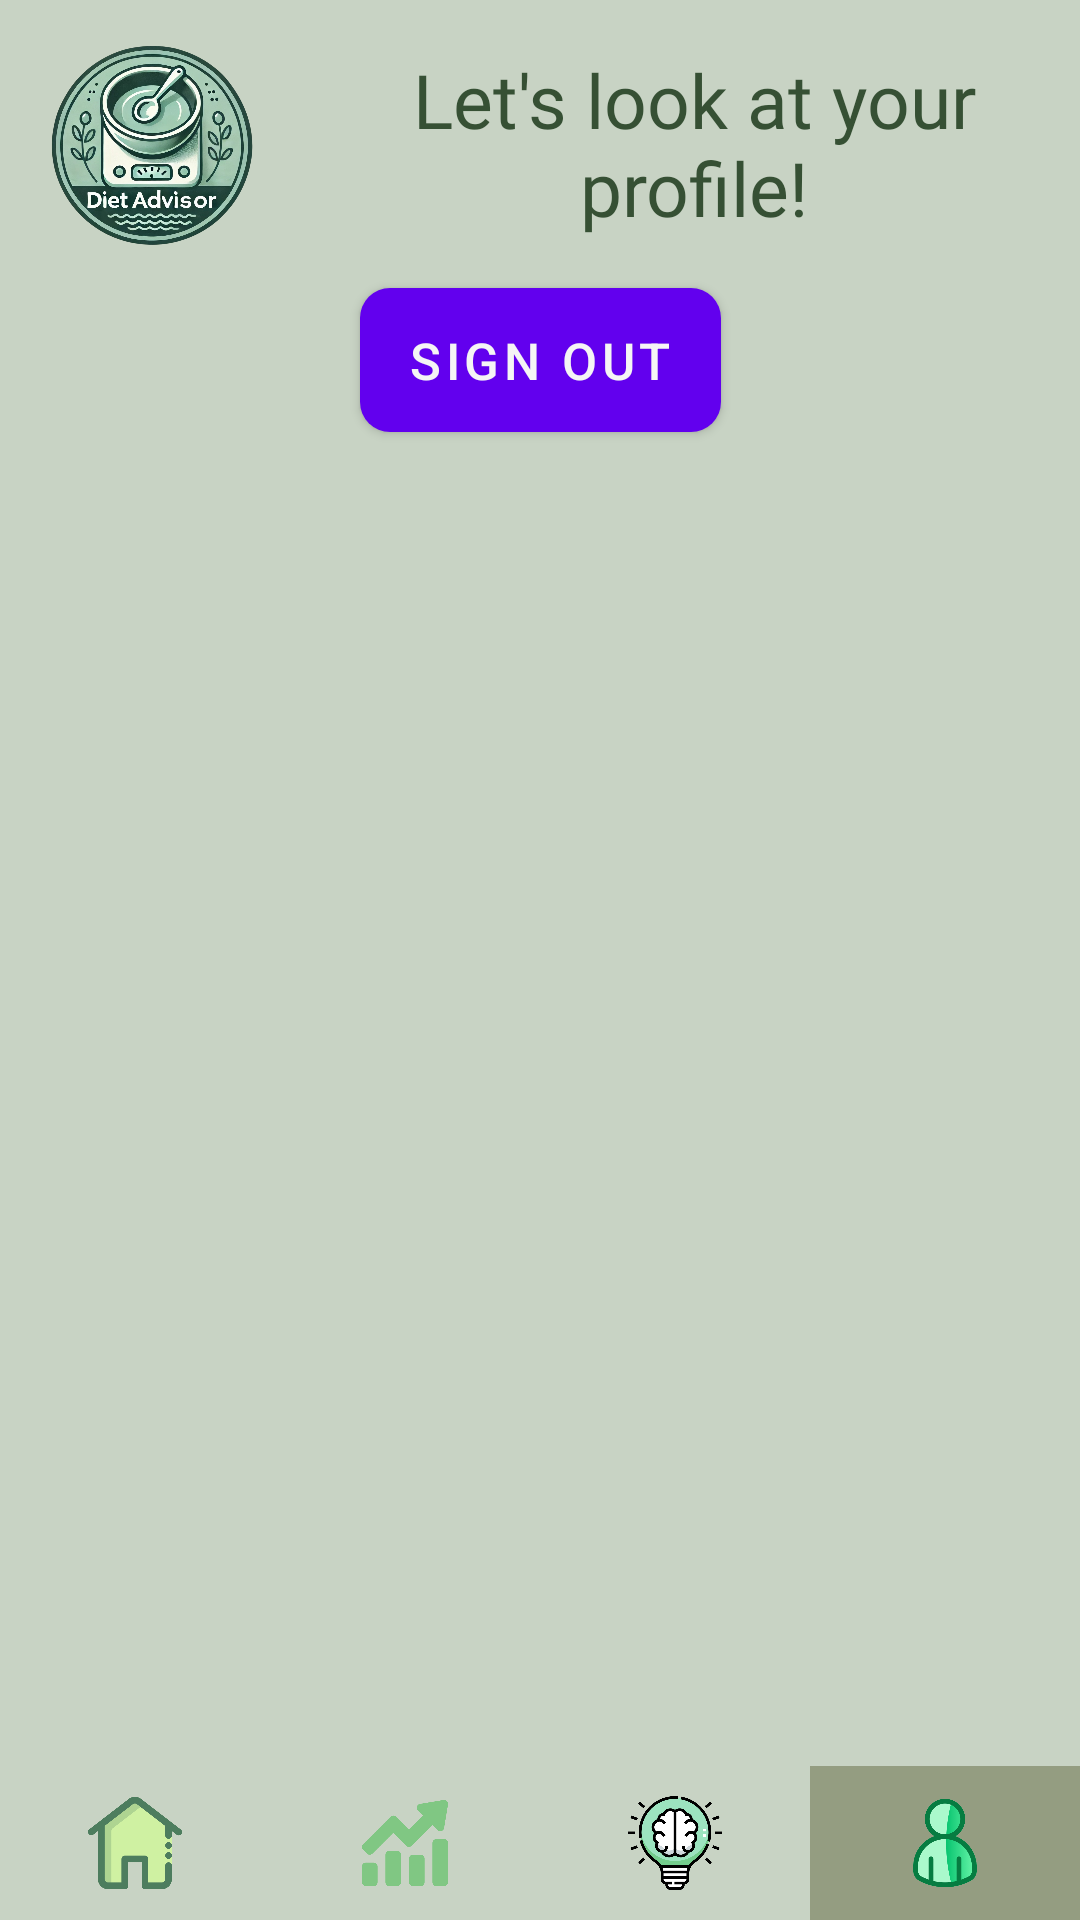

Named icons in this screenshot (1080px x 1920px) and their bounding boxes, rect(x1, y1, x2, y2):
home: rect(88, 1797, 182, 1889)
tracking: rect(362, 1800, 448, 1886)
